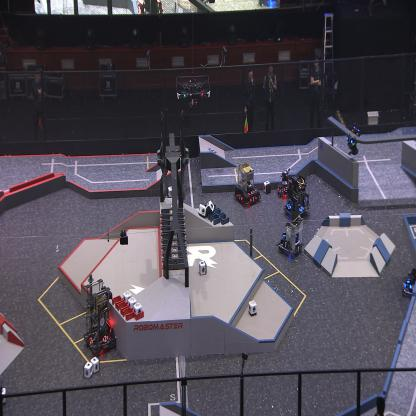car: (82, 279, 117, 355), (233, 160, 261, 206), (282, 174, 310, 219), (277, 214, 303, 258), (276, 170, 293, 198), (402, 266, 416, 299)
